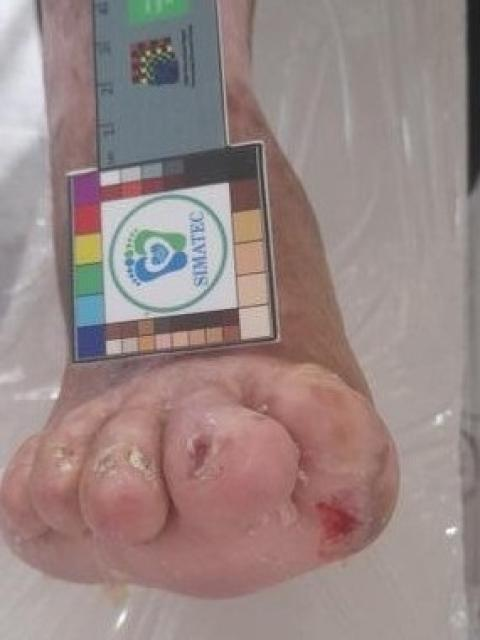wound: (295, 444, 397, 563), (186, 433, 234, 482)
